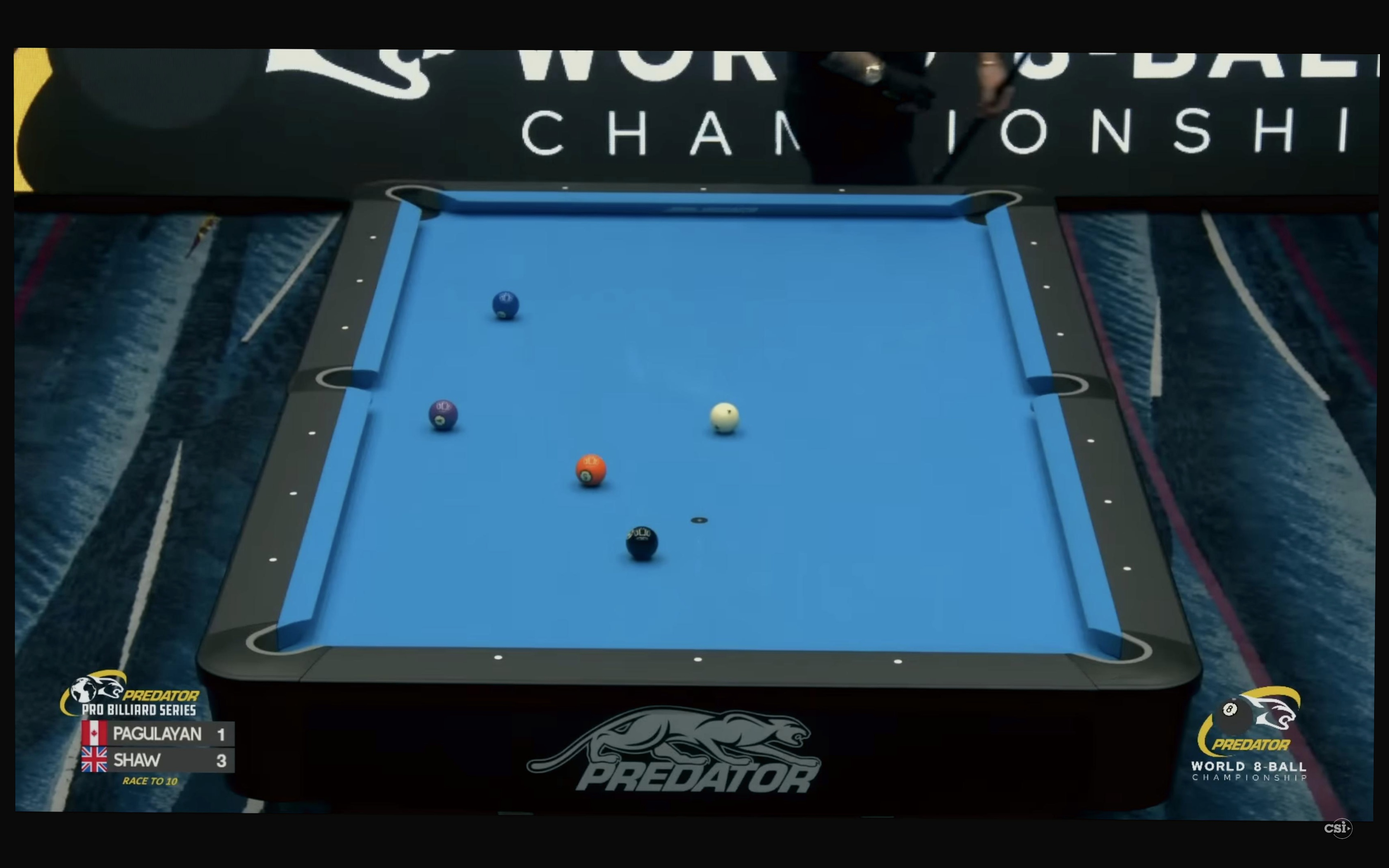Black: (626, 525, 659, 560)
Cue: (710, 403, 740, 433)
Solid: (693, 657, 703, 662), (494, 655, 503, 660), (894, 659, 903, 664), (1123, 566, 1132, 571), (1104, 499, 1112, 504), (1031, 241, 1038, 246), (290, 491, 297, 496), (1087, 439, 1095, 443), (269, 558, 277, 562), (1057, 332, 1064, 336), (1043, 285, 1050, 289), (700, 187, 707, 191), (562, 186, 569, 190), (370, 236, 377, 240), (356, 279, 363, 283), (342, 326, 349, 330), (309, 431, 316, 435), (839, 188, 845, 192)
Striped: (576, 454, 607, 486), (428, 399, 459, 430), (492, 290, 520, 319)
